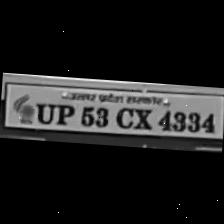3: (91, 100, 111, 126), (168, 106, 188, 130), (181, 106, 200, 130)
4: (154, 103, 174, 128), (200, 107, 216, 130)
5: (75, 99, 97, 125)
C: (112, 100, 136, 127)
P: (52, 99, 74, 124)
U: (32, 95, 58, 124)
X: (128, 101, 154, 128)
